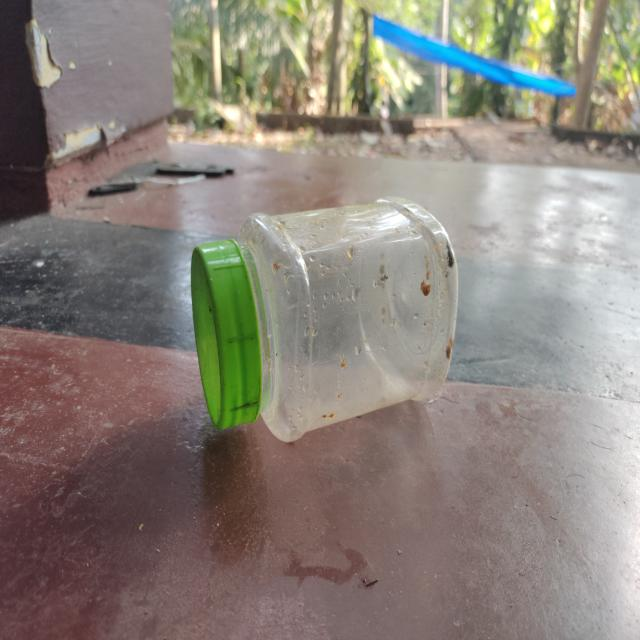plastic: (189, 199, 456, 442)
